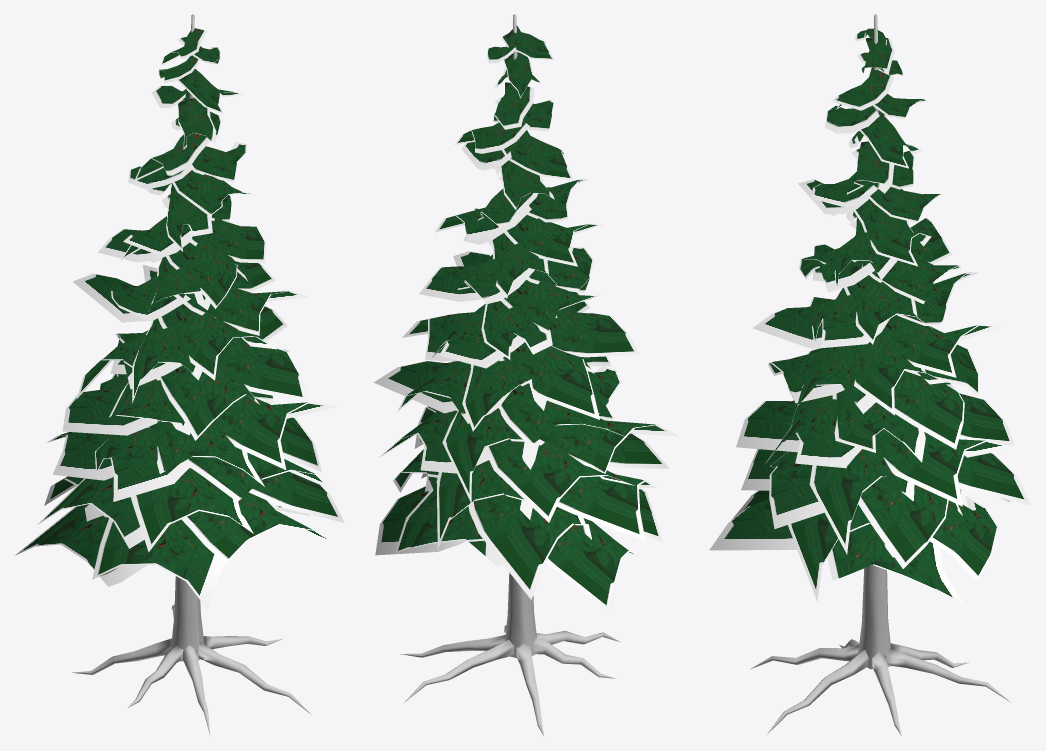
File: Pine_4_LOD1.fbx
3 renders of one model, left to right at view 1: azimuth 30°, elevation 25°; view 2: azimuth 150°, elevation 25°; view 3: azimuth 270°, elevation 25°, orthographic. The views are drawn at different scales.
Visible parts, largest first — view 1: Tree_1, Tree_0; view 2: Tree_1, Tree_0; view 3: Tree_1, Tree_0.
Boxes of the visible parts, left/top/right/bottom form: Tree_1: left=15, top=28, right=344, bottom=609; Tree_0: left=72, top=14, right=311, bottom=735; Tree_1: left=374, top=23, right=679, bottom=613; Tree_0: left=400, top=14, right=620, bottom=735; Tree_1: left=709, top=28, right=1031, bottom=605; Tree_0: left=750, top=14, right=1011, bottom=735.
Bounding box in the file's own units: 137 × 332 × 141.
